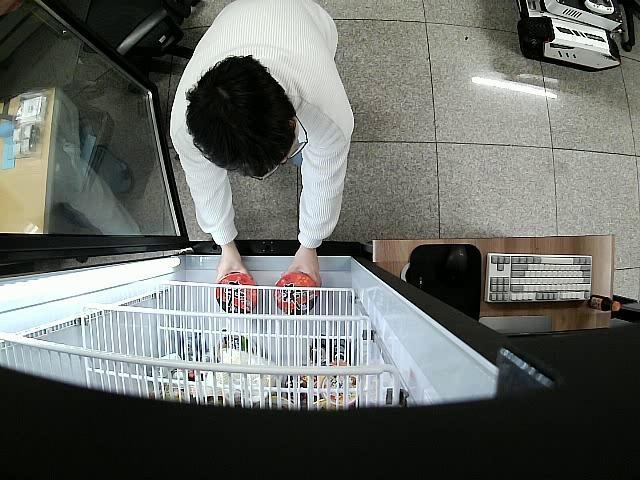01_ShinRamen_L: (272, 272, 318, 316), (215, 272, 259, 313)
